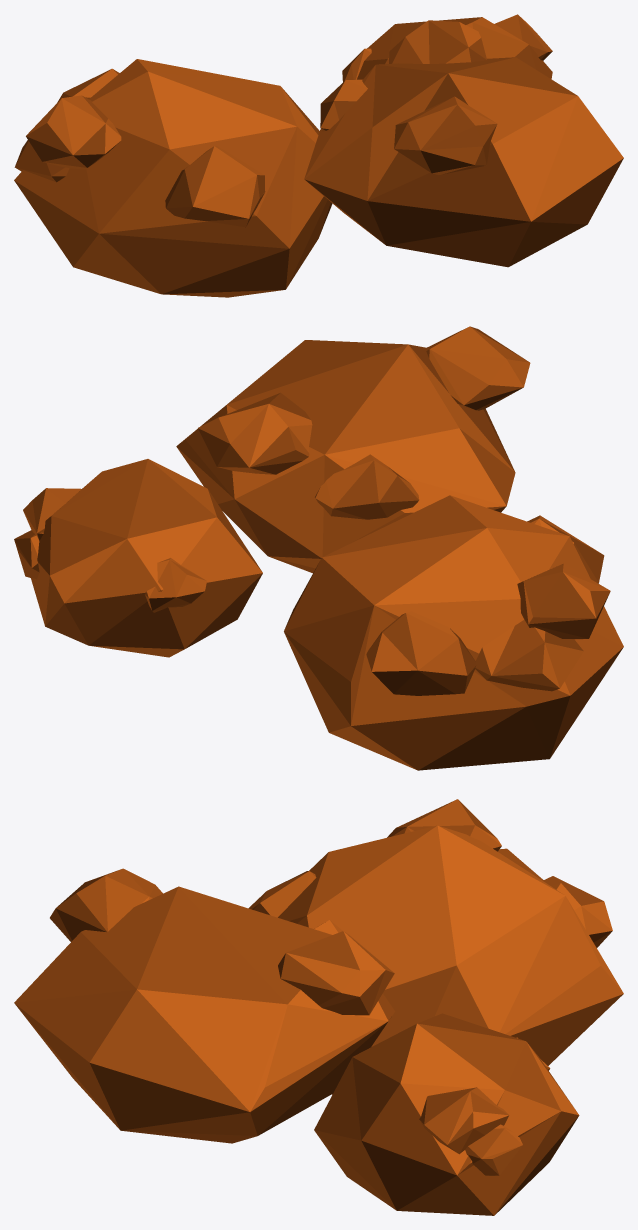
The model's file is Leaves_A.glb.
3 views of the same model, one above another, from view 1: azimuth 30°, elevation 25°; view 2: azimuth 150°, elevation 25°; view 3: azimuth 270°, elevation 25° (orthographic). The views are drawn at different scales.
Parts seen in each view (by area): view 1: Leaves; view 2: Leaves; view 3: Leaves.
Boxes of the visible parts, x1=… form: Leaves: x1=14, y1=14, x2=623, y2=297; Leaves: x1=14, y1=326, x2=623, y2=770; Leaves: x1=14, y1=799, x2=623, y2=1215.
Size of the model in its own units: 19.25 by 9.53 by 17.16.
